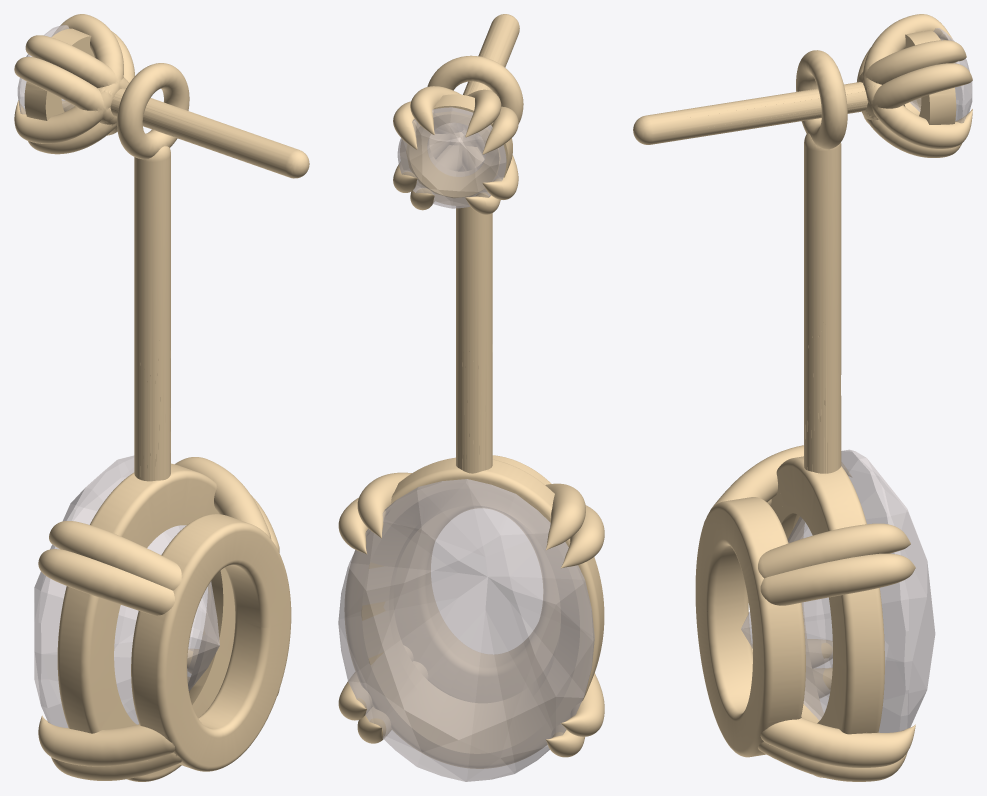
3 views of the same model, side by side, from view 1: azimuth 30°, elevation 25°; view 2: azimuth 150°, elevation 25°; view 3: azimuth 270°, elevation 25° (orthographic).
Visible parts, largest first — view 1: Object_4_WhiteMetal_0, Object_3_WhiteMetal_0, Diamond_Oval_Material_1_0, Diamond_Round_Material_1_0; view 2: Object_4_WhiteMetal_0, Diamond_Oval_Material_1_0, Object_3_WhiteMetal_0, Diamond_Round_Material_1_0; view 3: Object_4_WhiteMetal_0, Object_3_WhiteMetal_0, Diamond_Oval_Material_1_0, Diamond_Round_Material_1_0.
Boxes of the visible parts, <box> form: Object_4_WhiteMetal_0: <box>38,63,291,781</box>; Object_3_WhiteMetal_0: <box>14,14,309,178</box>; Diamond_Oval_Material_1_0: <box>34,455,219,728</box>; Diamond_Round_Material_1_0: <box>17,25,74,114</box>; Object_4_WhiteMetal_0: <box>338,55,604,768</box>; Diamond_Oval_Material_1_0: <box>338,479,594,781</box>; Object_3_WhiteMetal_0: <box>393,14,519,214</box>; Diamond_Round_Material_1_0: <box>397,107,506,208</box>; Object_4_WhiteMetal_0: <box>695,50,915,781</box>; Object_3_WhiteMetal_0: <box>633,14,972,157</box>; Diamond_Oval_Material_1_0: <box>741,449,935,732</box>; Diamond_Round_Material_1_0: <box>909,28,972,123</box>.
Bounding box in the file's own units: 0.1546 × 0.4582 × 0.1955.
